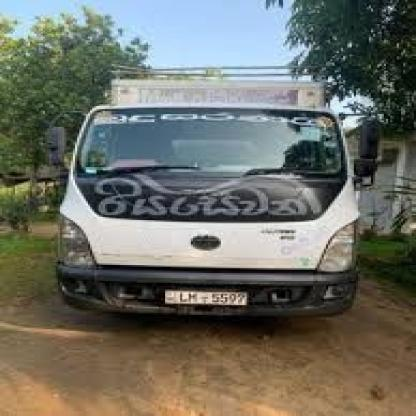Lorry front: (34, 64, 384, 324)
number plate: (159, 288, 252, 305)
